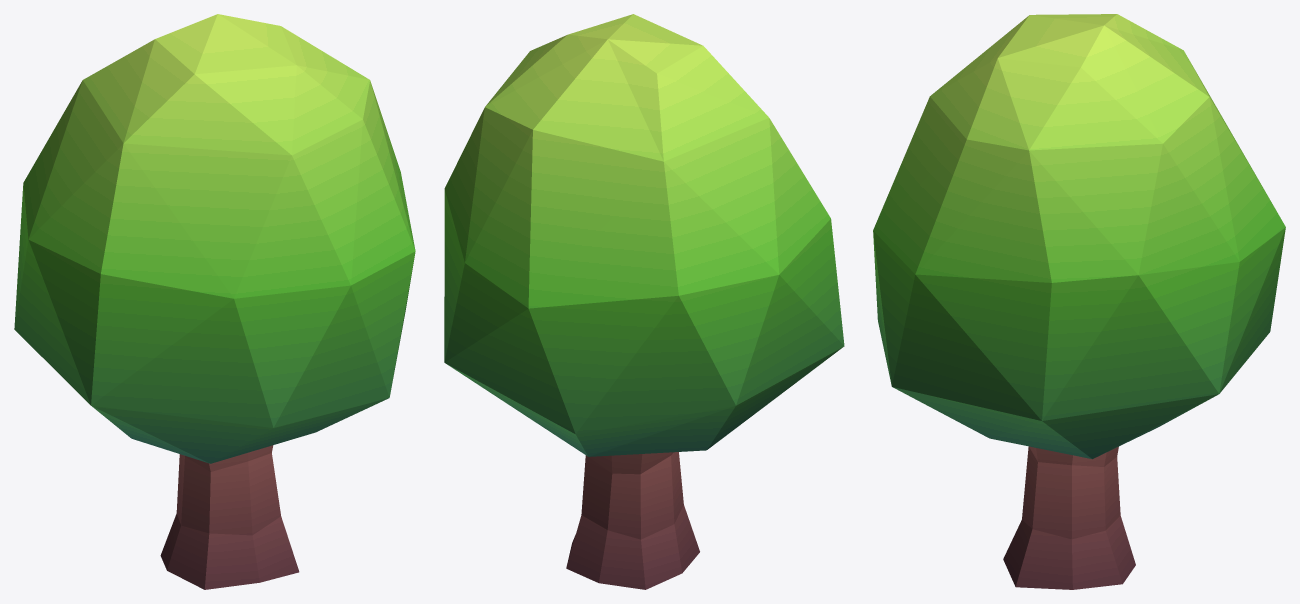
The model's file is Green_B.glb.
The picture shows the model from 3 angles, left to right: view 1: azimuth 30°, elevation 25°; view 2: azimuth 150°, elevation 25°; view 3: azimuth 270°, elevation 25°; orthographic projection. The views are drawn at different scales.
Parts seen in each view (by area): view 1: Green_Leaves_B, Green_Trunk_B; view 2: Green_Leaves_B, Green_Trunk_B; view 3: Green_Leaves_B, Green_Trunk_B.
Part boxes in pixels (left/top/right/bottom): Green_Leaves_B: left=14, top=14, right=415, bottom=463; Green_Trunk_B: left=160, top=445, right=299, bottom=589; Green_Leaves_B: left=444, top=14, right=844, bottom=456; Green_Trunk_B: left=566, top=452, right=699, bottom=589; Green_Leaves_B: left=873, top=14, right=1285, bottom=459; Green_Trunk_B: left=1003, top=446, right=1135, bottom=589.
Bounding box in the file's own units: 2.7 × 4.07 × 2.8.
Materials: 1 (1 with a texture image).
